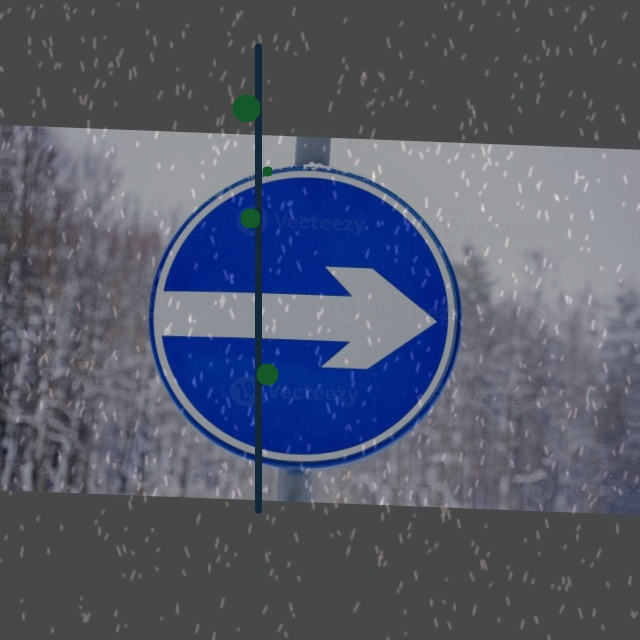Compulsory_Turn_Right: (144, 159, 468, 470)
